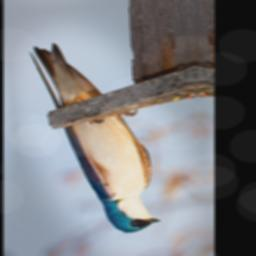Swallow: (27, 34, 162, 242)
